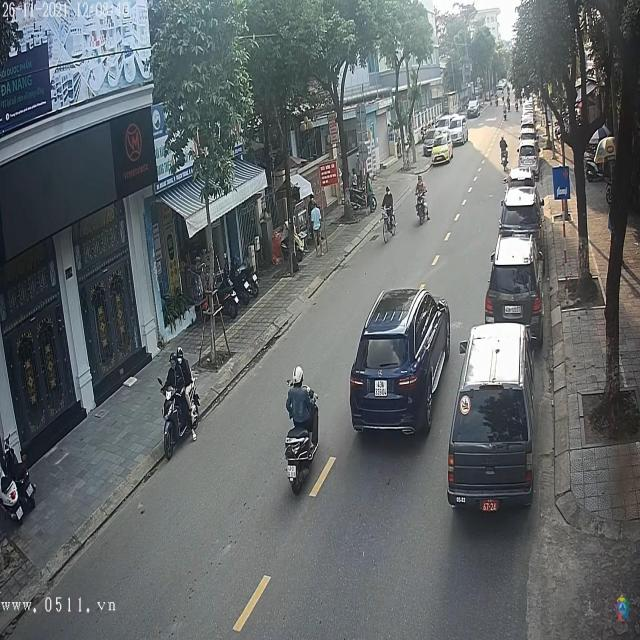car: (449, 326, 534, 512), (348, 289, 450, 436), (484, 236, 543, 331), (500, 186, 541, 235), (507, 168, 534, 188), (468, 99, 482, 118)
motorcycle: (284, 396, 320, 496), (162, 377, 202, 462), (416, 184, 430, 225)
